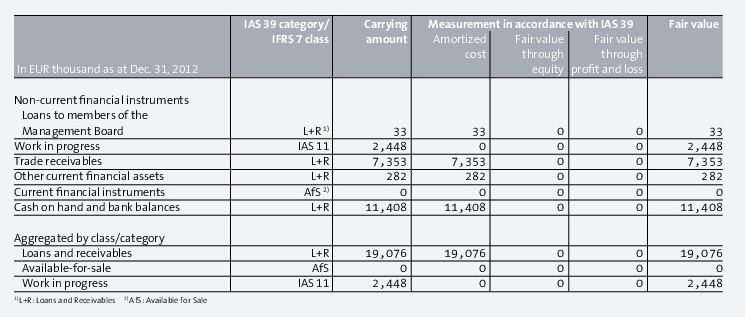table: (0, 0, 745, 317)
